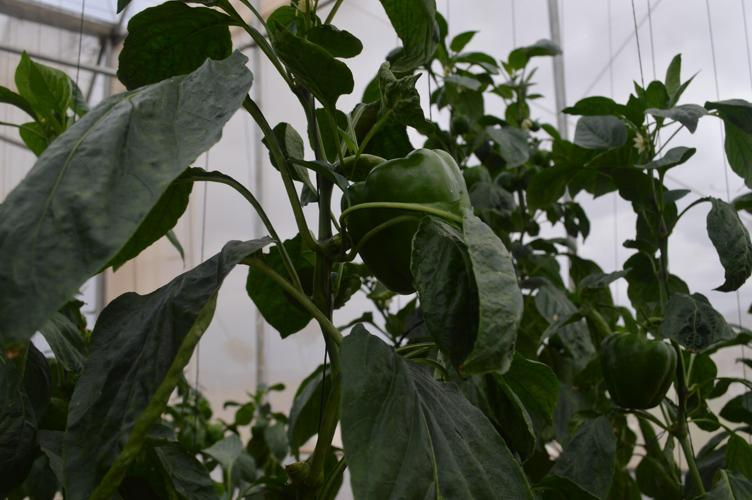BellPepper: (335, 144, 482, 309), (587, 319, 687, 426)
